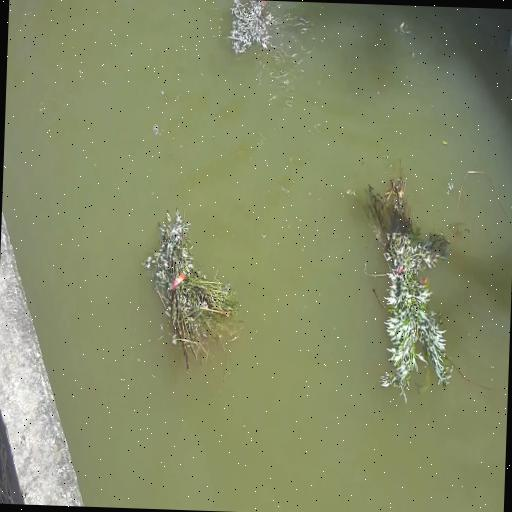twig: (354, 164, 460, 402), (141, 205, 244, 376), (226, 2, 315, 106)
